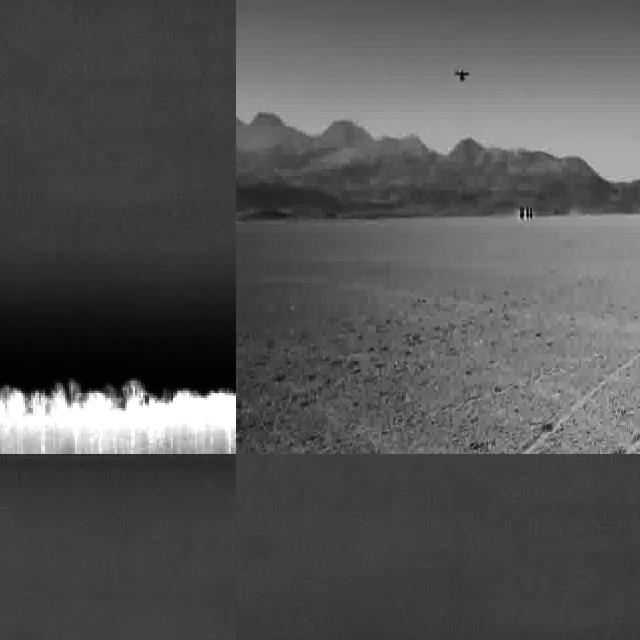drone: (453, 63, 472, 91)
